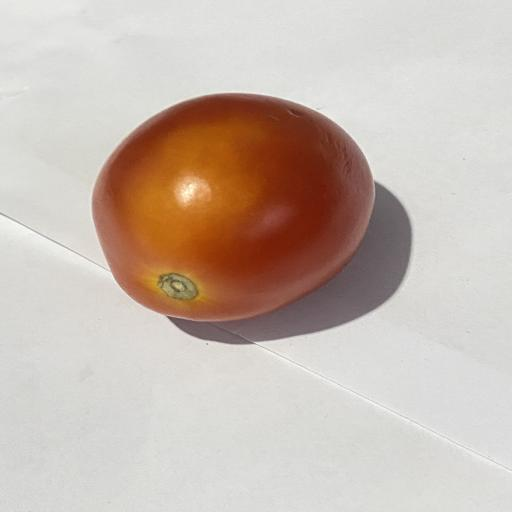ripe: (92, 93, 375, 321)
